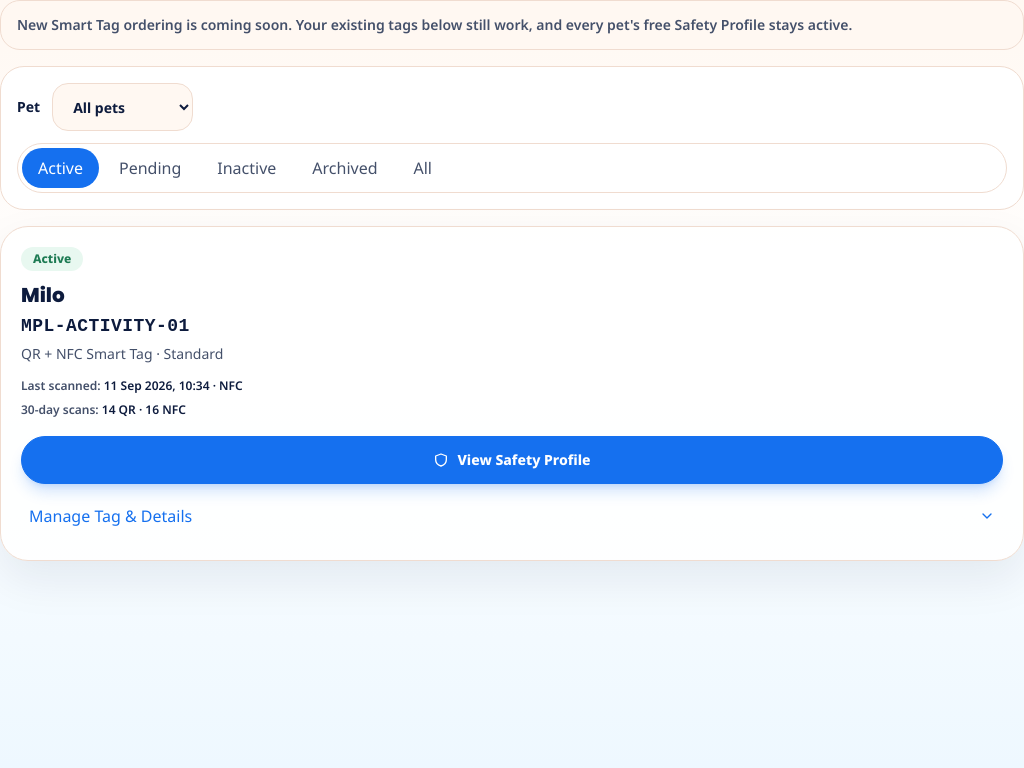
Test: owner Smart Tag activity › renders a single QR scan as an owner-friendly activity row
Expected: the text "MPL-ACTIVITY-01" is shown, 21,316 -> 190,336
What coordinates should you click on to do the following:
click the button "Manage Tag & Details"
I would click on:
 (111, 516)
Its box is 21,492 -> 1003,540.
(page scrolled)
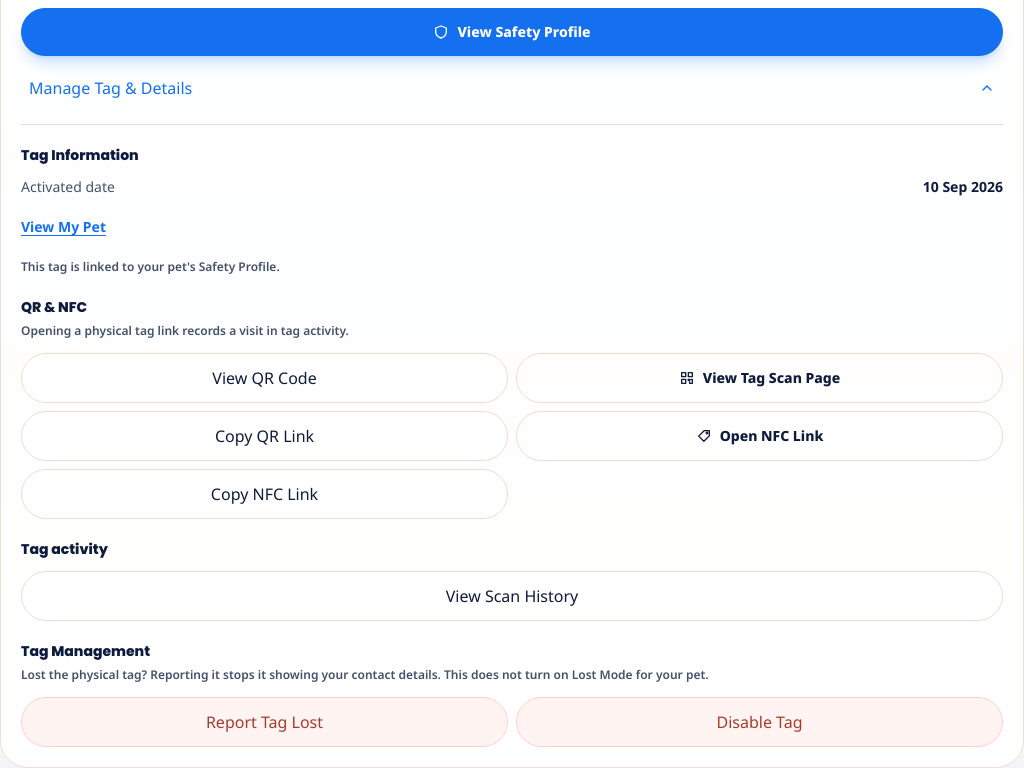
What coordinates should you click on to do the following:
click the button "View Scan History"
I would click on:
 (512, 596)
Its box is 21,571 -> 1003,621.
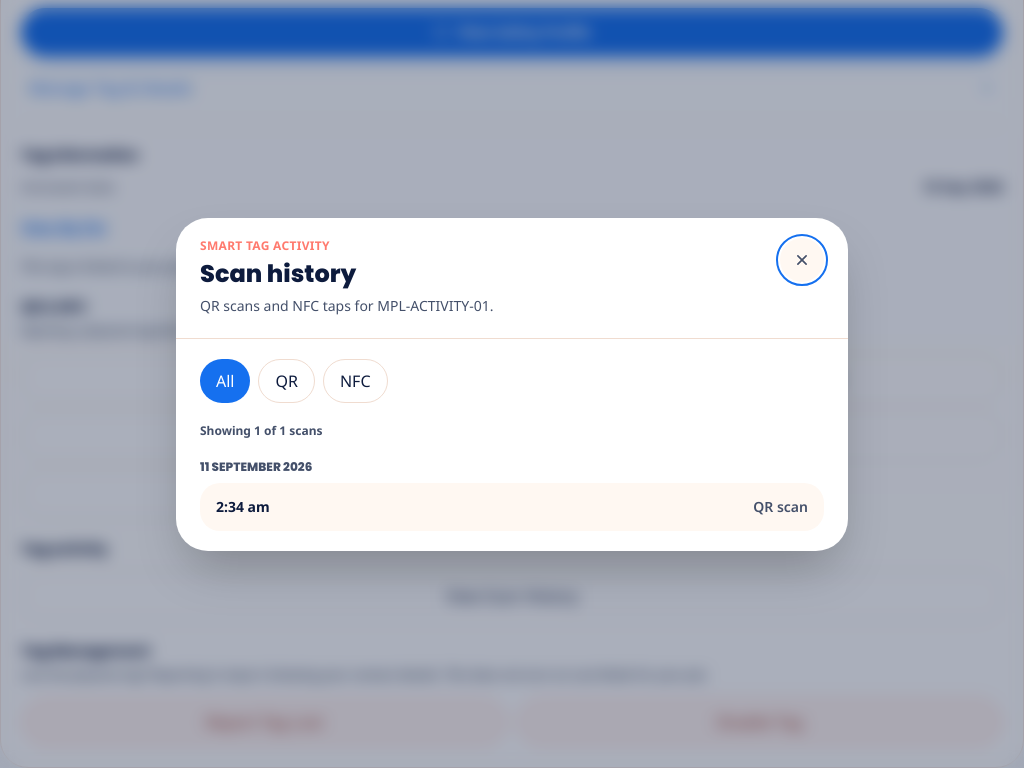
Now the text "Showing 1 of 1 scans" is shown, box 200,422 -> 322,438
Now the text "QR scan" is shown, box 753,496 -> 808,516
